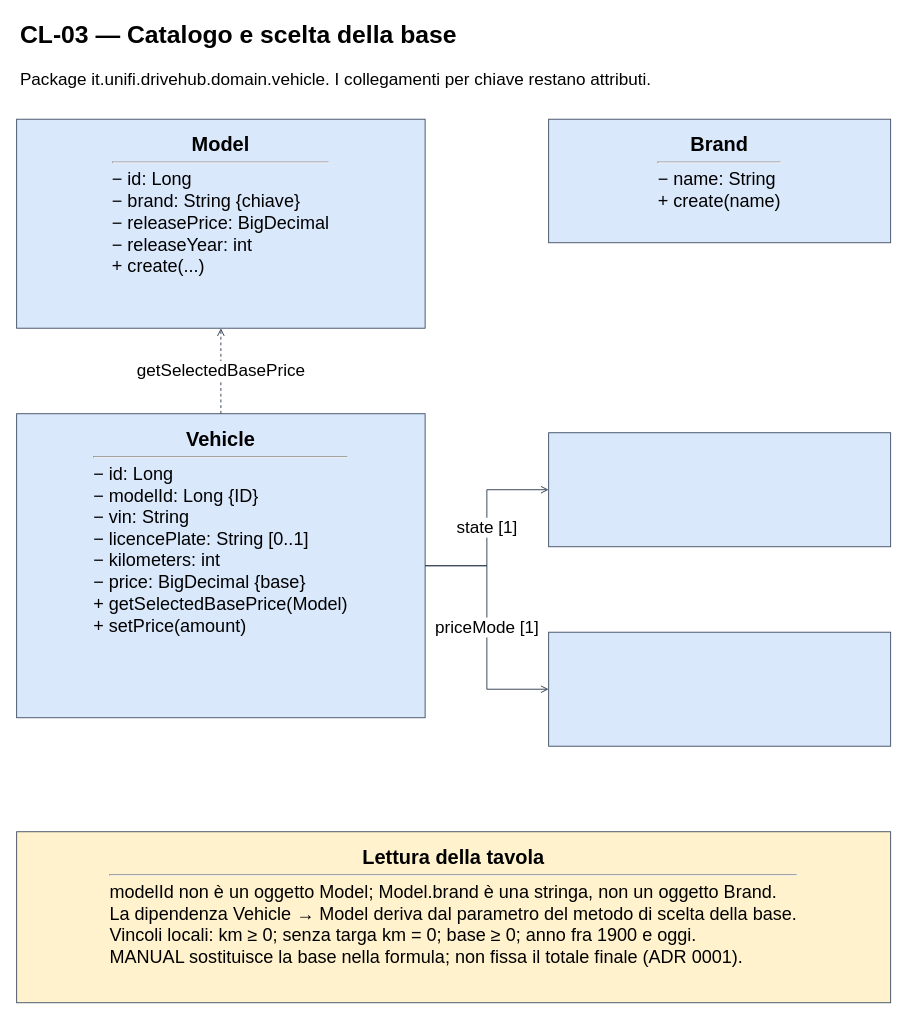
This 907x1019 diagram has some shape labels left out. The centre of each missing label's shape, as x and y in pixels:
«enumeration» PriceMode AUTOMATIC MANUAL: pixel 719 688
«enumeration» VehicleState SALE, RENT, BLOCKED WAITING, SOLD: pixel 719 489
